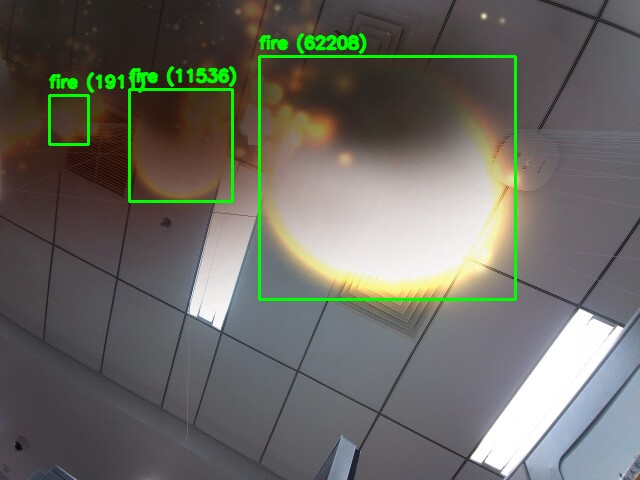fire: (259, 56, 515, 299), (129, 89, 232, 201), (49, 95, 88, 144)
